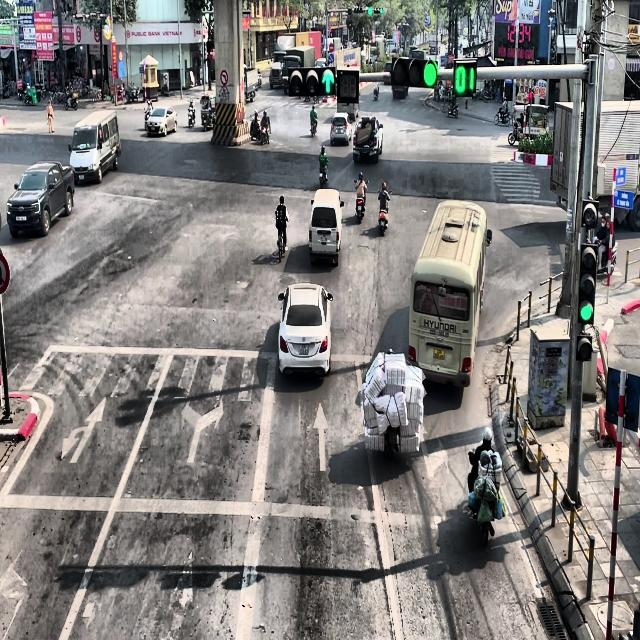BUS: (408, 199, 492, 388)
CAR: (6, 160, 75, 238), (277, 282, 333, 378), (352, 116, 383, 164), (145, 106, 177, 137), (330, 112, 351, 146)
MOTORBIKE: (467, 450, 501, 546), (354, 180, 367, 223), (276, 218, 288, 262), (378, 197, 390, 235), (508, 117, 522, 145), (494, 106, 510, 126), (249, 115, 261, 141), (203, 108, 216, 131), (318, 160, 328, 188), (260, 123, 269, 145), (187, 106, 196, 127), (448, 102, 459, 118), (310, 119, 317, 137), (373, 86, 379, 100)
TRAFFIC_LIGHT: (577, 242, 598, 325), (391, 55, 438, 88), (453, 58, 478, 95), (367, 6, 383, 16)
TRUCK: (550, 98, 640, 231)
